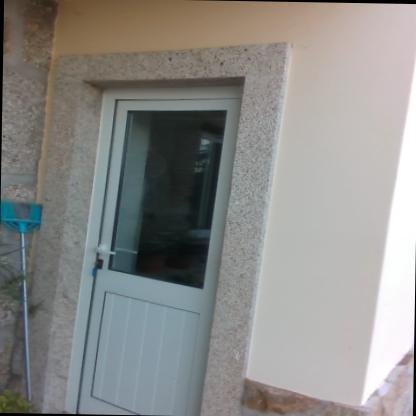closed: (69, 72, 259, 415)
